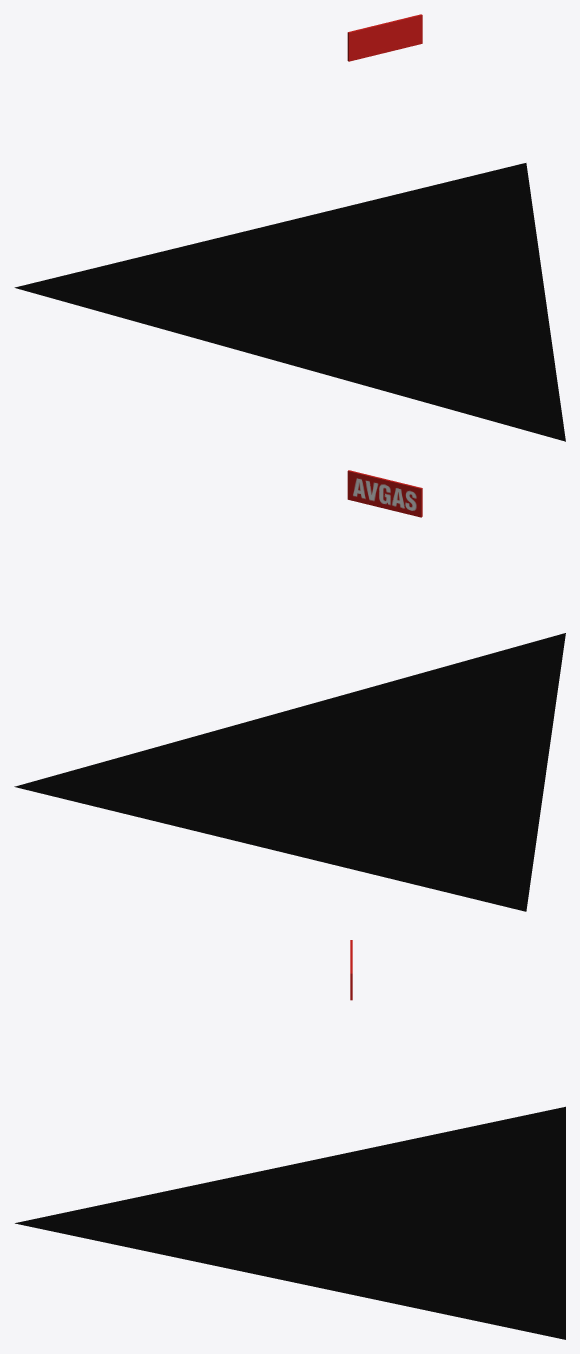
Rendered from AVGAS-large-sign-cbj_LOD00.gltf.
3 views of the same model, one above another, from view 1: azimuth 30°, elevation 25°; view 2: azimuth 150°, elevation 25°; view 3: azimuth 270°, elevation 25° (orthographic). The views are drawn at different scales.
Parts seen in each view (by area): view 1: Cube; view 2: Cube; view 3: Cube.
Boxes of the visible parts, <box> form: Cube: <box>14,14,565,441</box>; Cube: <box>14,470,565,911</box>; Cube: <box>15,940,565,1339</box>.
Size of the model in its own units: 6.26 by 3.34 by 6.26.
